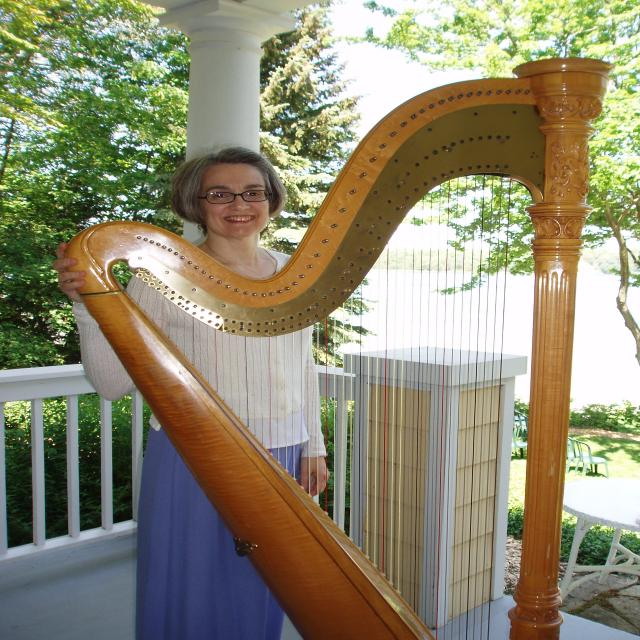harp: (61, 38, 618, 640)
